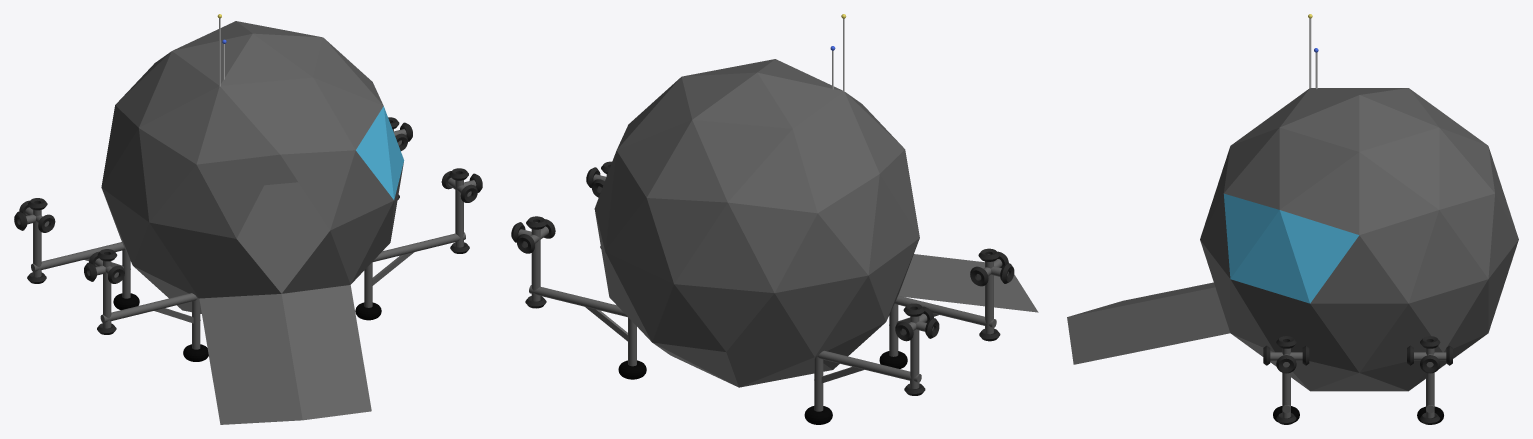
Rendered from space_pod-2.fbx.
3 views of the same model, side by side, from view 1: azimuth 30°, elevation 25°; view 2: azimuth 150°, elevation 25°; view 3: azimuth 270°, elevation 25° (orthographic). The views are drawn at different scales.
Visible parts, largest first — view 1: Icosphere, Circle, Torus.004, Torus.001, Torus.002, Torus.003, Cylinder; view 2: Icosphere, Torus.002, Torus.003, Torus.001, Cylinder.002; view 3: Icosphere, Torus.004, Torus.003.
Part boxes in pixels (<box>): Icosphere: <box>101,21,404,424</box>; Circle: <box>237,182,329,293</box>; Torus.004: <box>372,168,482,285</box>; Torus.001: <box>84,249,200,334</box>; Torus.002: <box>14,198,130,283</box>; Torus.003: <box>388,117,412,199</box>; Cylinder: <box>192,293,200,349</box>; Icosphere: <box>594,59,1038,387</box>; Torus.002: <box>817,303,939,395</box>; Torus.003: <box>511,216,627,341</box>; Torus.001: <box>889,248,1014,341</box>; Cylinder.002: <box>814,356,823,411</box>; Icosphere: <box>1067,88,1518,391</box>; Torus.004: <box>1263,336,1309,424</box>; Torus.003: <box>1407,336,1452,424</box>.
Bounding box in the file's own units: 3565 × 2884 × 3460.
